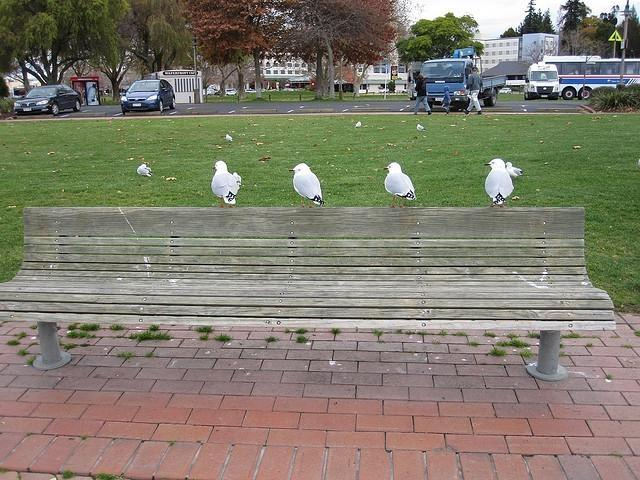bus: (543, 56, 640, 100)
car: (13, 84, 84, 116), (122, 80, 174, 114), (226, 88, 238, 96), (245, 88, 257, 95), (402, 89, 407, 92)
truck: (419, 45, 506, 107), (524, 63, 558, 100)
